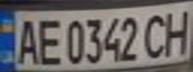0: (60, 15, 84, 65)
2: (118, 11, 145, 61)
3: (84, 15, 106, 64)
4: (103, 12, 124, 63)
A: (9, 15, 42, 65)
C: (139, 9, 172, 60)
E: (33, 15, 63, 66)
H: (160, 6, 193, 56)
